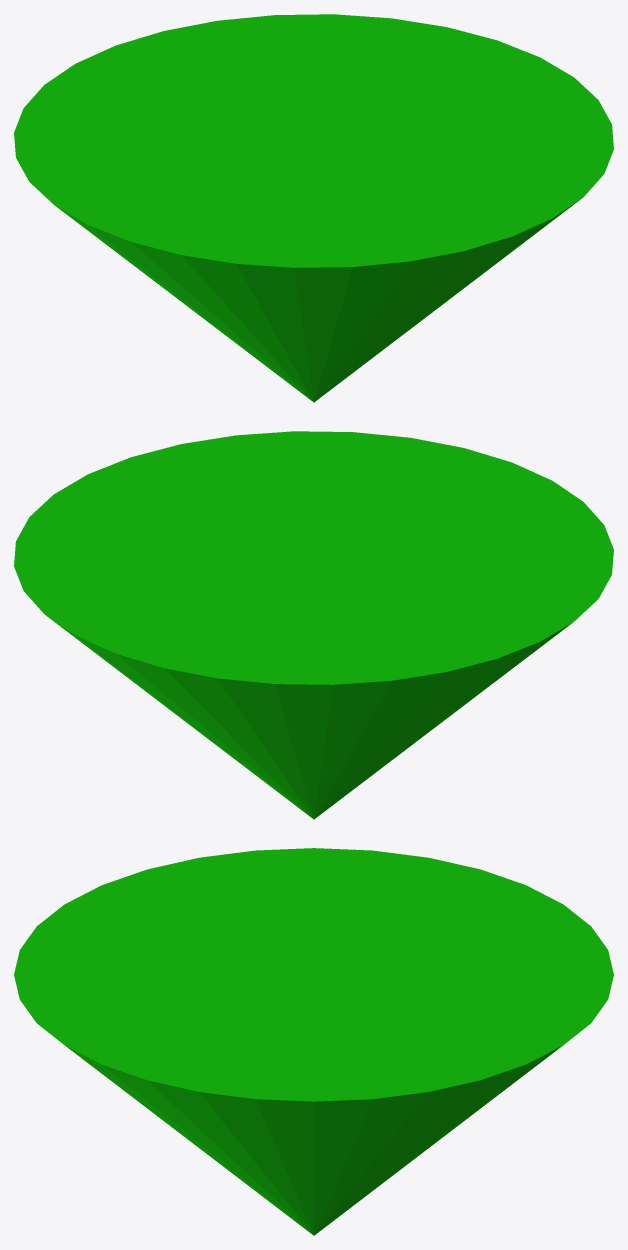
File: IlhaMetaverso.fbx
3 views of the same model, one above another, from view 1: azimuth 30°, elevation 25°; view 2: azimuth 150°, elevation 25°; view 3: azimuth 270°, elevation 25° (orthographic).
Visible parts, largest first — view 1: Cone; view 2: Cone; view 3: Cone.
Boxes of the visible parts, <box> form: Cone: <box>14,14,613,402</box>; Cone: <box>14,431,613,819</box>; Cone: <box>14,848,613,1235</box>.
Bounding box in the file's own units: 592 × 284 × 592.
